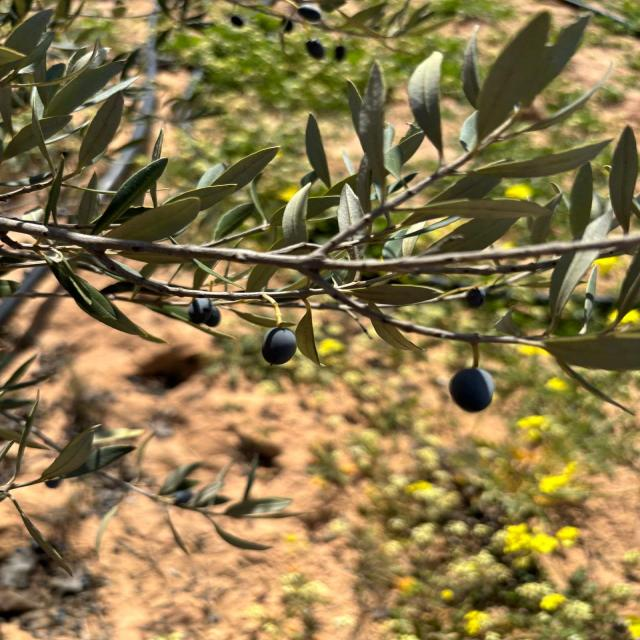Healthy: (79, 92, 123, 167), (609, 126, 637, 232), (449, 368, 494, 412), (262, 328, 296, 365)
